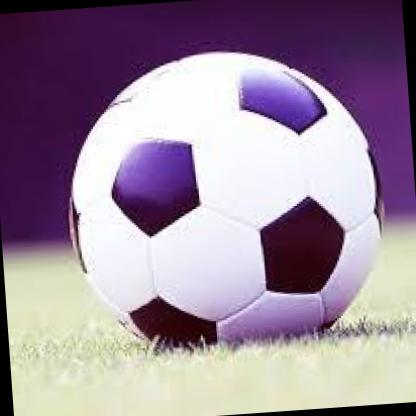ball: (58, 41, 392, 354)
